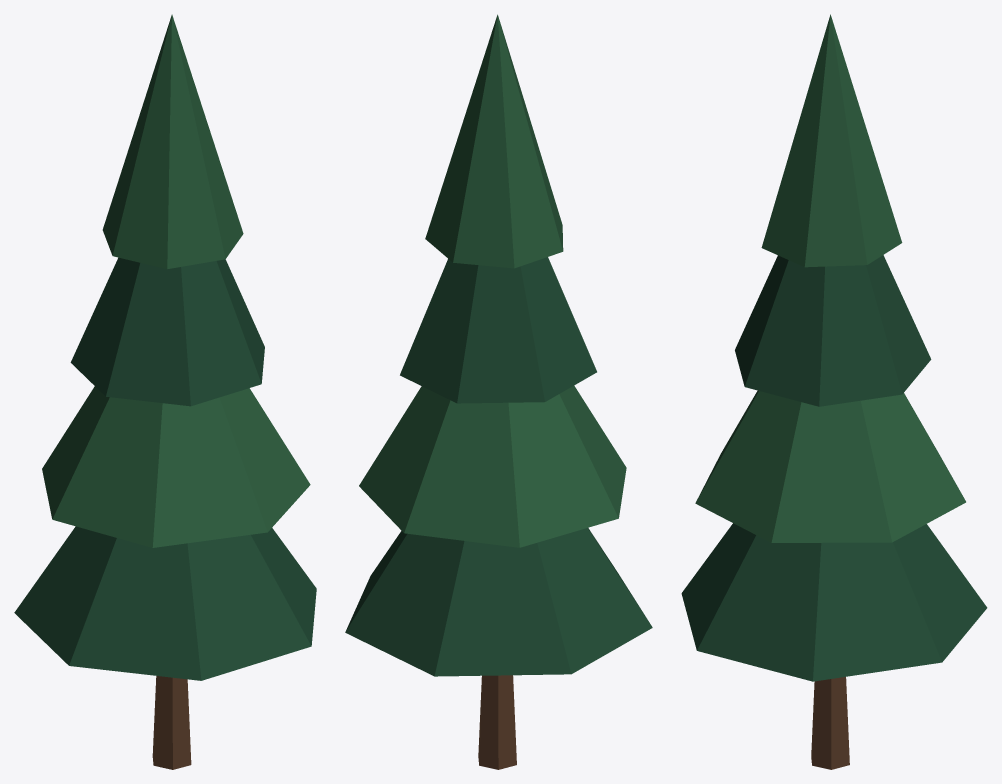
Rendered from pine_a.glb.
3 views of the same model, side by side, from view 1: azimuth 30°, elevation 25°; view 2: azimuth 150°, elevation 25°; view 3: azimuth 270°, elevation 25° (orthographic).
Visible parts, largest first — view 1: pine_a; view 2: pine_a; view 3: pine_a.
Part boxes in pixels (left/top/right/bottom): pine_a: left=14, top=14, right=316, bottom=769; pine_a: left=345, top=14, right=652, bottom=769; pine_a: left=681, top=14, right=987, bottom=769.
Size of the model in its own units: 5.04 by 13.56 by 5.04.
